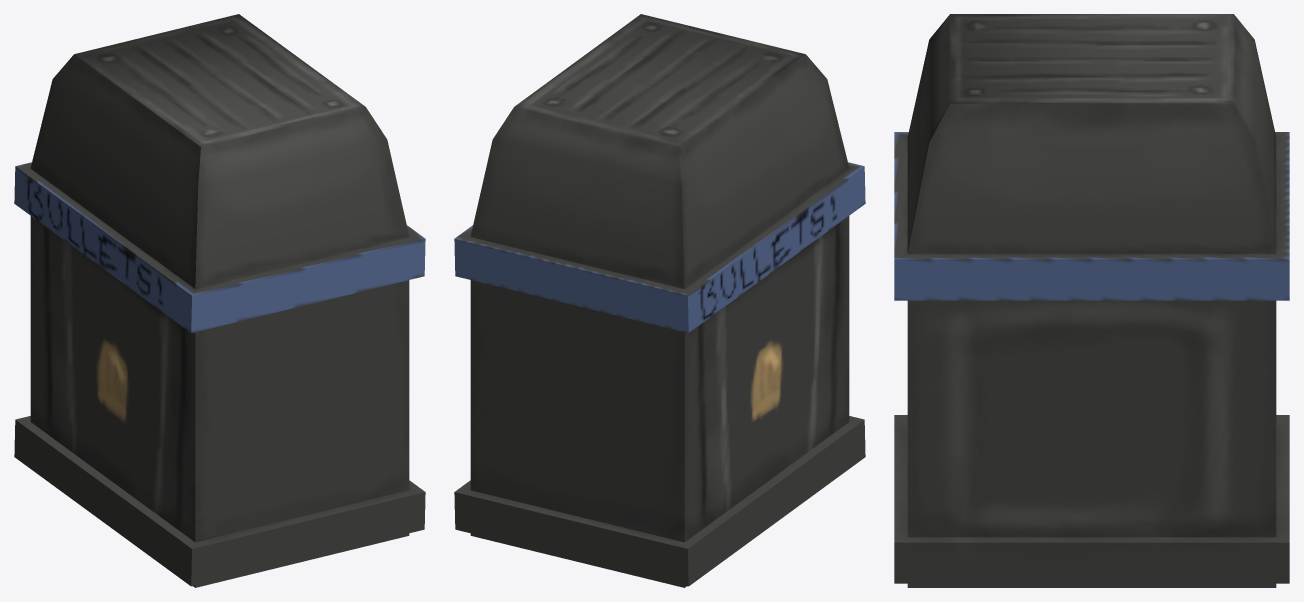
The model's file is ammo_pistol.fbx.
3 renders of one model, left to right at view 1: azimuth 30°, elevation 25°; view 2: azimuth 150°, elevation 25°; view 3: azimuth 270°, elevation 25°, orthographic. The views are drawn at different scales.
Visible parts, largest first — view 1: Cube; view 2: Cube; view 3: Cube.
Part boxes in pixels (x1,y1,x2,y2): Cube: (14,14,425,587); Cube: (454,14,865,587); Cube: (894,14,1289,587).
Bounding box in the file's own units: 0.1641 × 0.2818 × 0.2145.
Materials: 1 (1 with a texture image).
